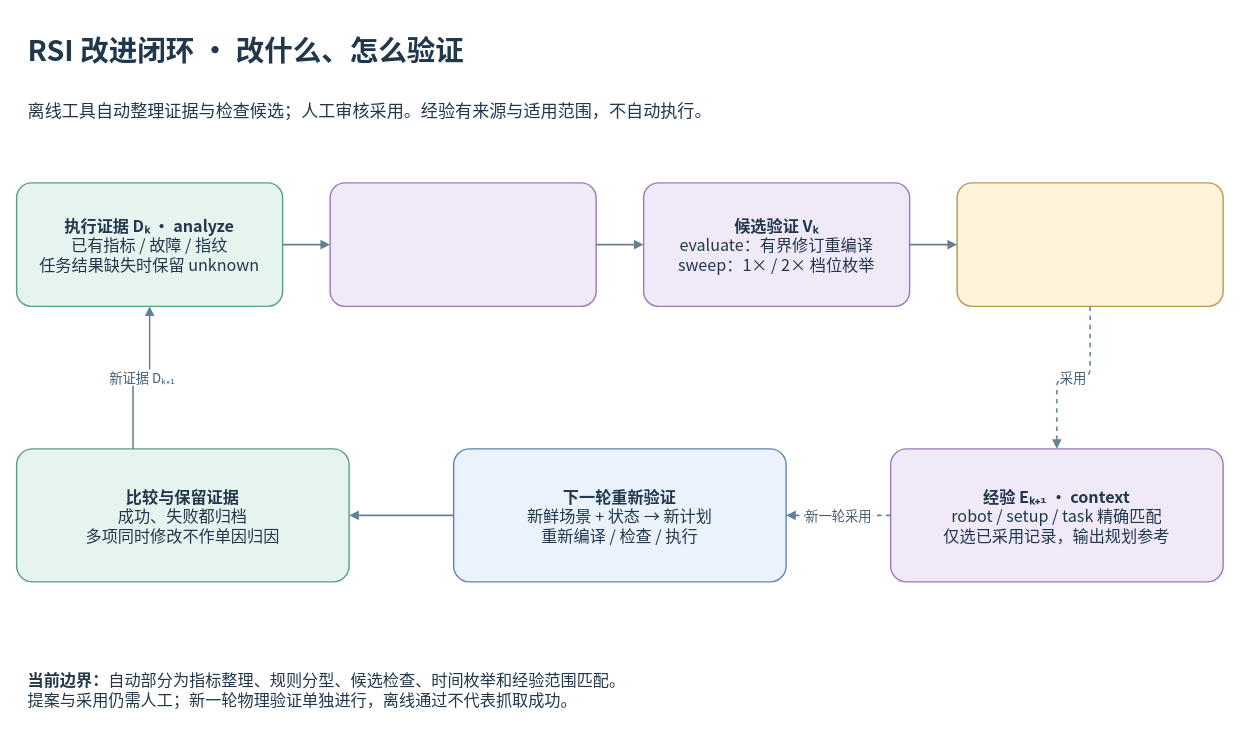
Some shapes in this 1241 by 750 pixel diagram are drawn without their labels. The shapes that lost their labels are listed below. From the top down, each one's centre as x and y in pixels, then its label:
the point at 462,244: 规则分型与假设 夹爪 / TCP 下限 / 执行时序 不从错误文本推断唯一原因
the point at 1089,244: 人工审核 · review 明确采用或拒绝 / 适用范围 保留完整比较报告与来源
